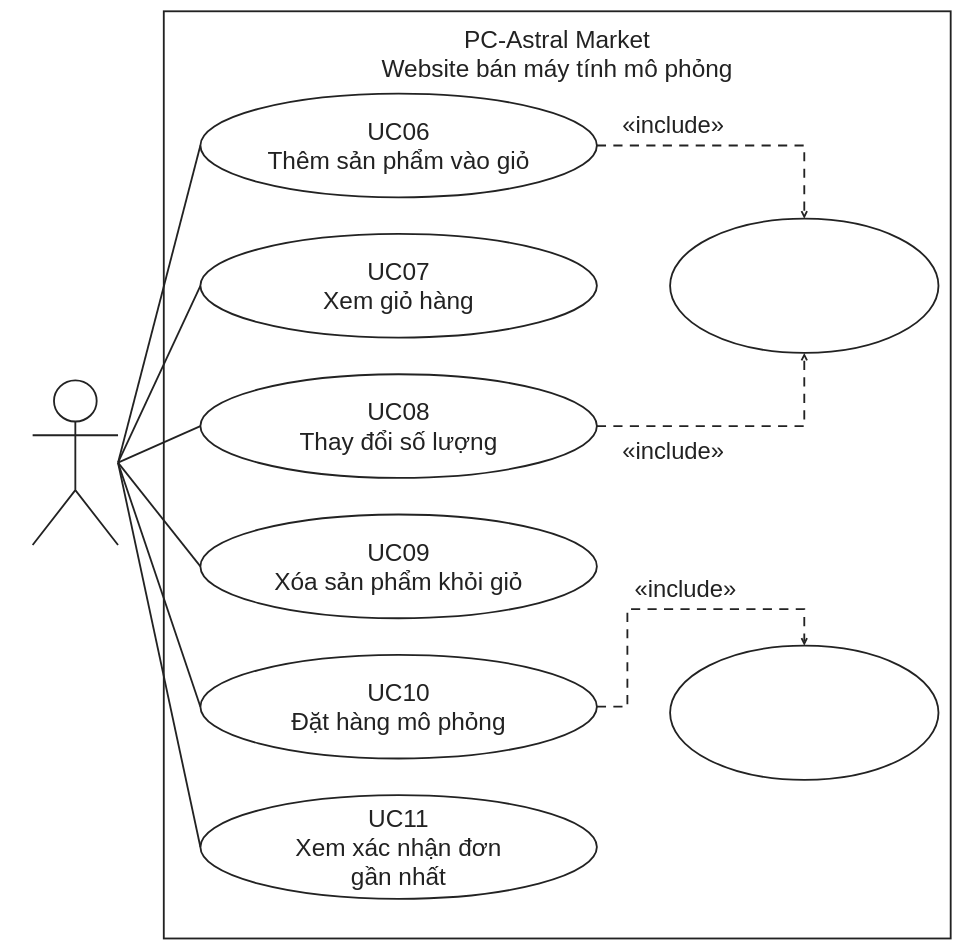
The diagram is 963 pixels wide and 950 high, and some of its shapes have lost their labels. Each missing label, with the centre of its shape:
Khách hàng: (75,462)
Kiểm tra số lượng cho phép: (804,285)
Kiểm tra thông tin đặt hàng: (804,712)
